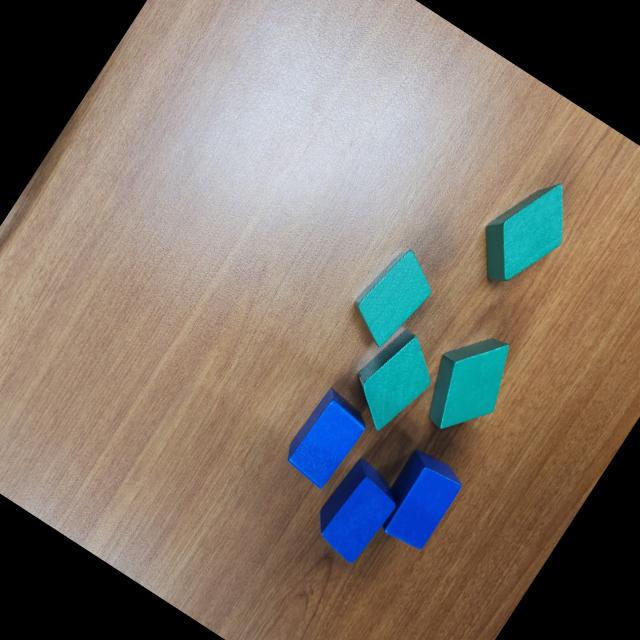blue: (302, 452, 410, 570), (366, 444, 468, 554), (277, 386, 373, 492)
green: (459, 162, 586, 302), (407, 318, 526, 447), (337, 320, 448, 442), (340, 237, 448, 356)
